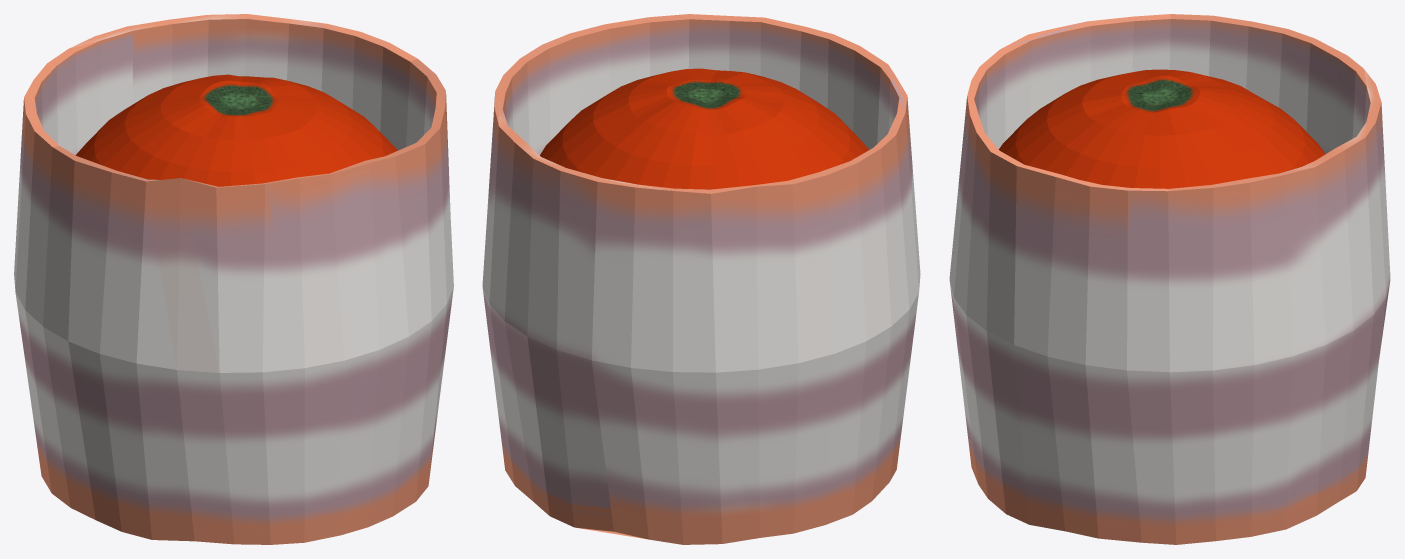
The model's file is 生トマト串.fbx.
The picture shows the model from 3 angles, left to right: view 1: azimuth 30°, elevation 25°; view 2: azimuth 150°, elevation 25°; view 3: azimuth 270°, elevation 25°; orthographic projection.
Visible parts, largest first — view 1: 円柱.002, 球.001; view 2: 円柱.002, 球.001; view 3: 円柱.002, 球.001.
Boxes of the visible parts, x1,y1,x2,y2 form: 円柱.002: [14, 14, 453, 544]; 球.001: [76, 74, 397, 186]; 円柱.002: [482, 14, 920, 544]; 球.001: [540, 68, 868, 189]; 円柱.002: [949, 14, 1390, 544]; 球.001: [999, 69, 1325, 188].
Size of the model in its own units: 200 by 189 by 200.
Materials: 2 (2 with a texture image).
